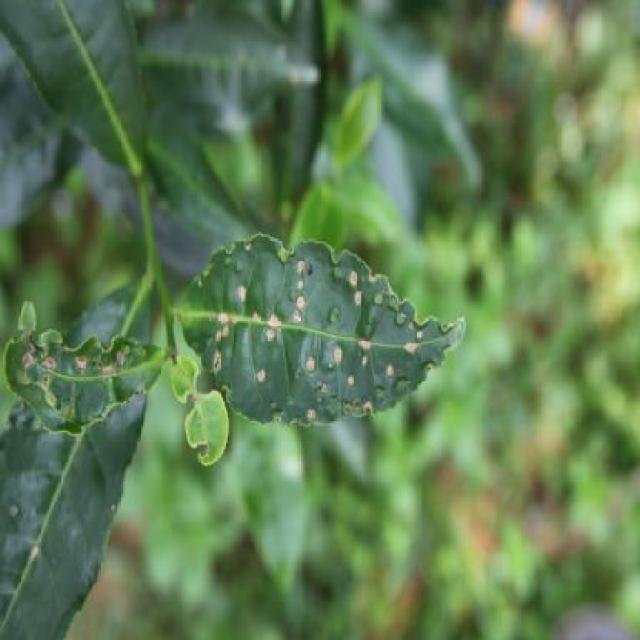Tea Mosquito bug infested leaf: (194, 234, 468, 418), (14, 299, 161, 426)
